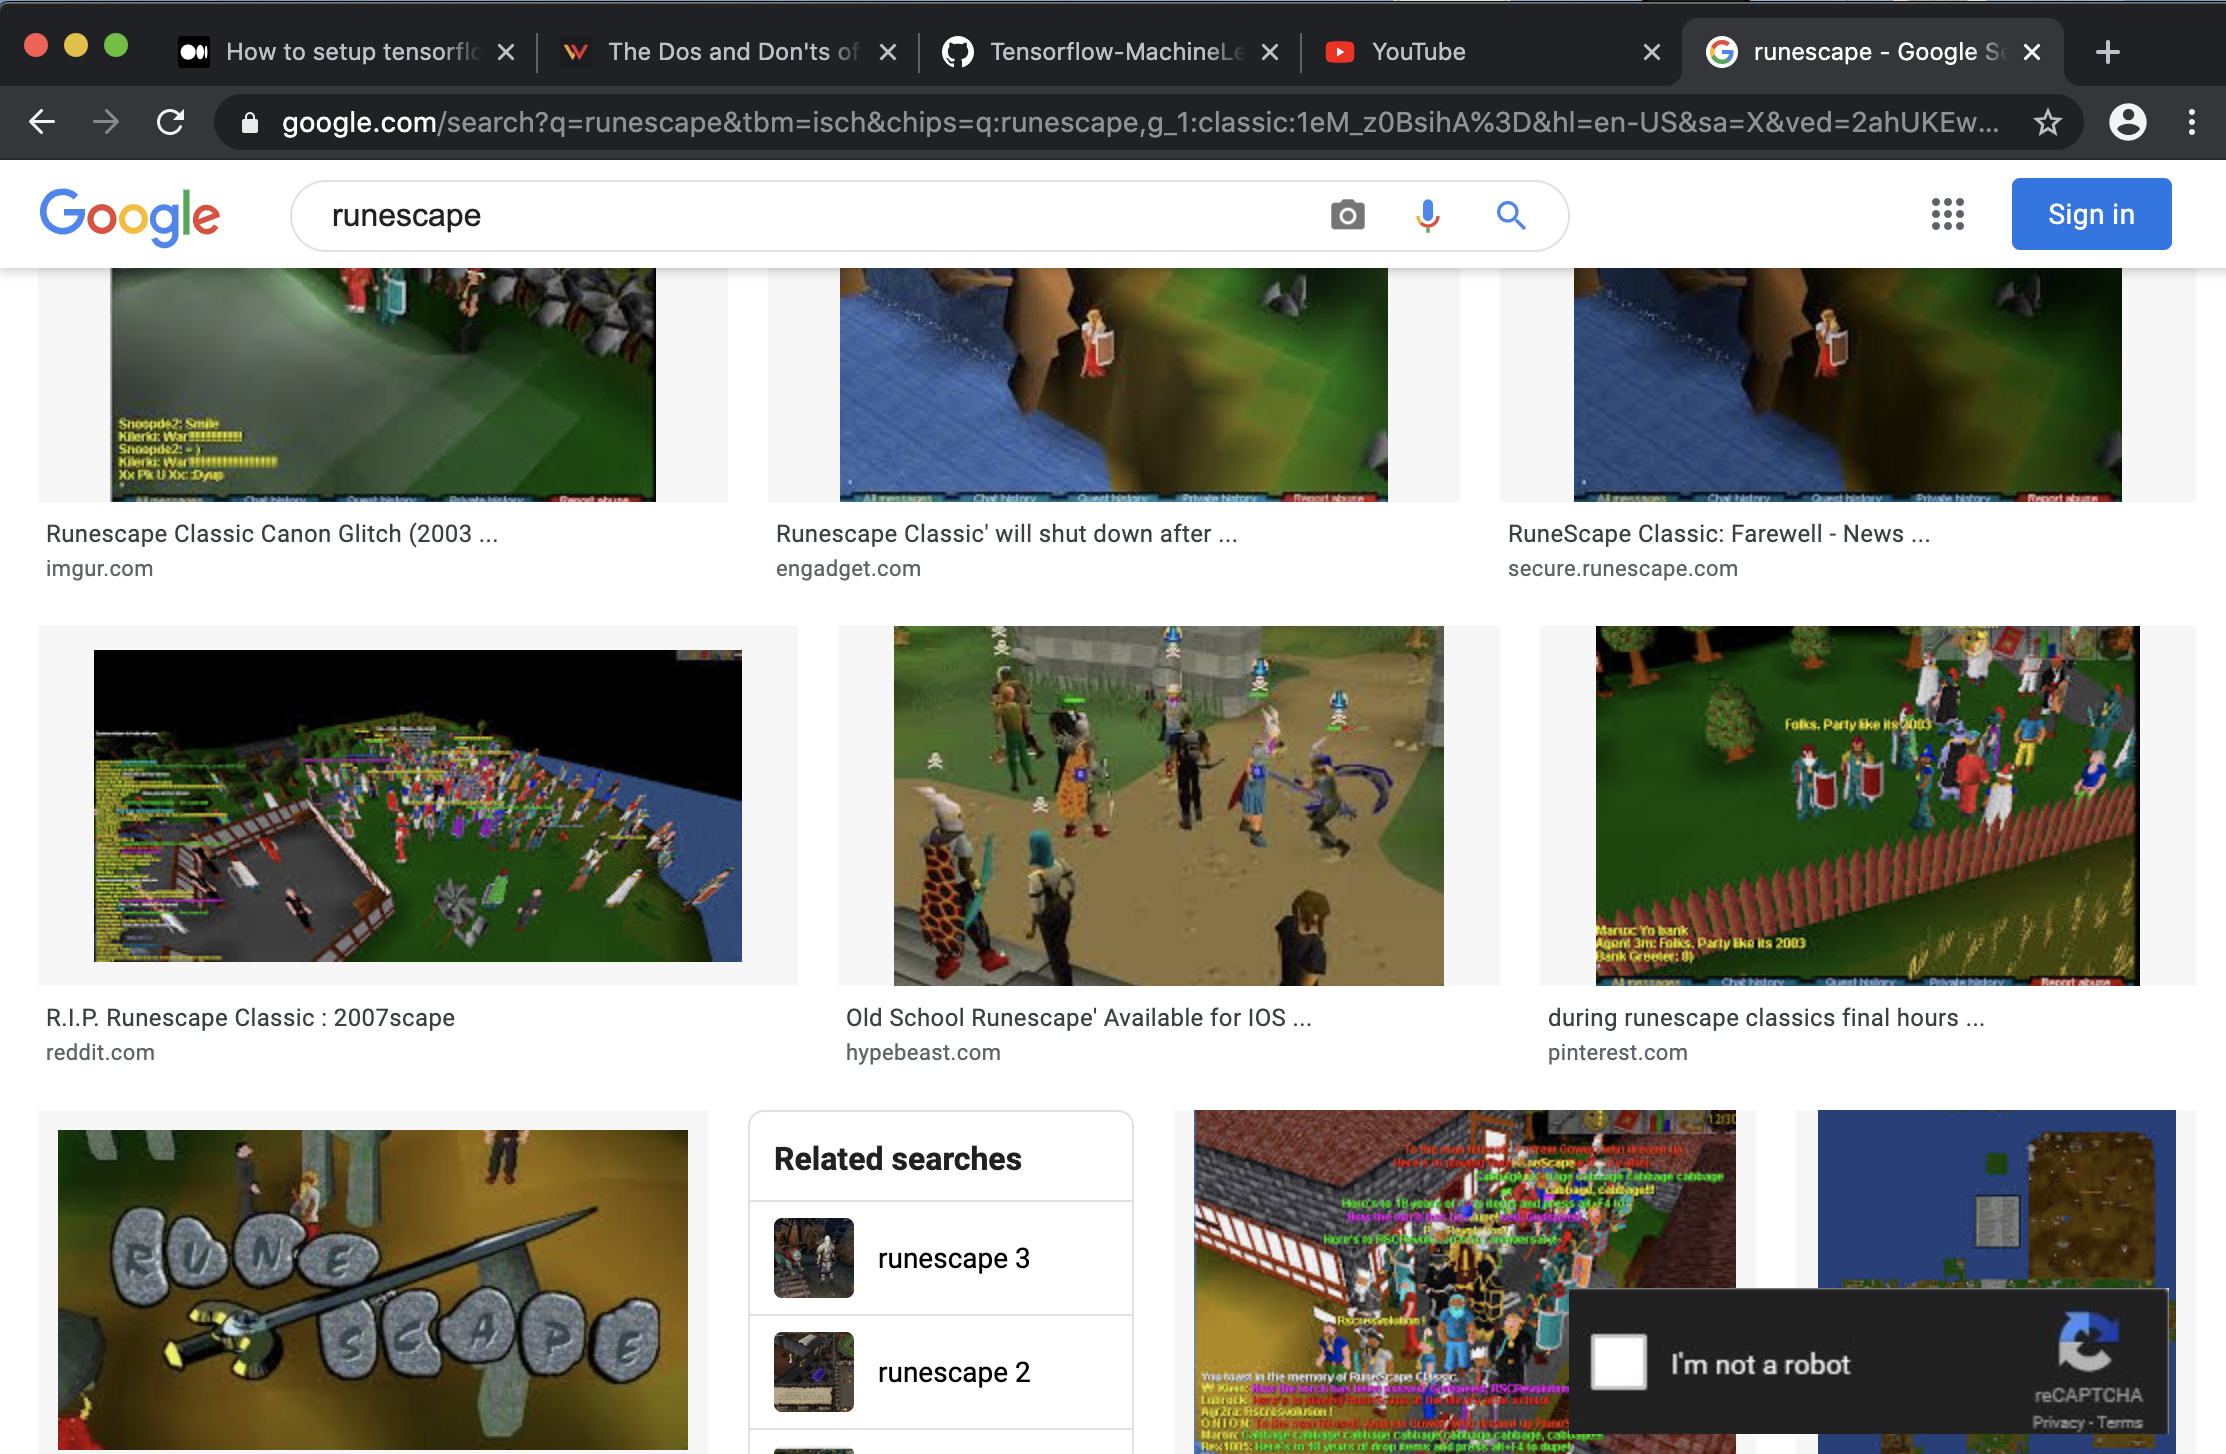captcha: (1546, 1271, 2172, 1454)
